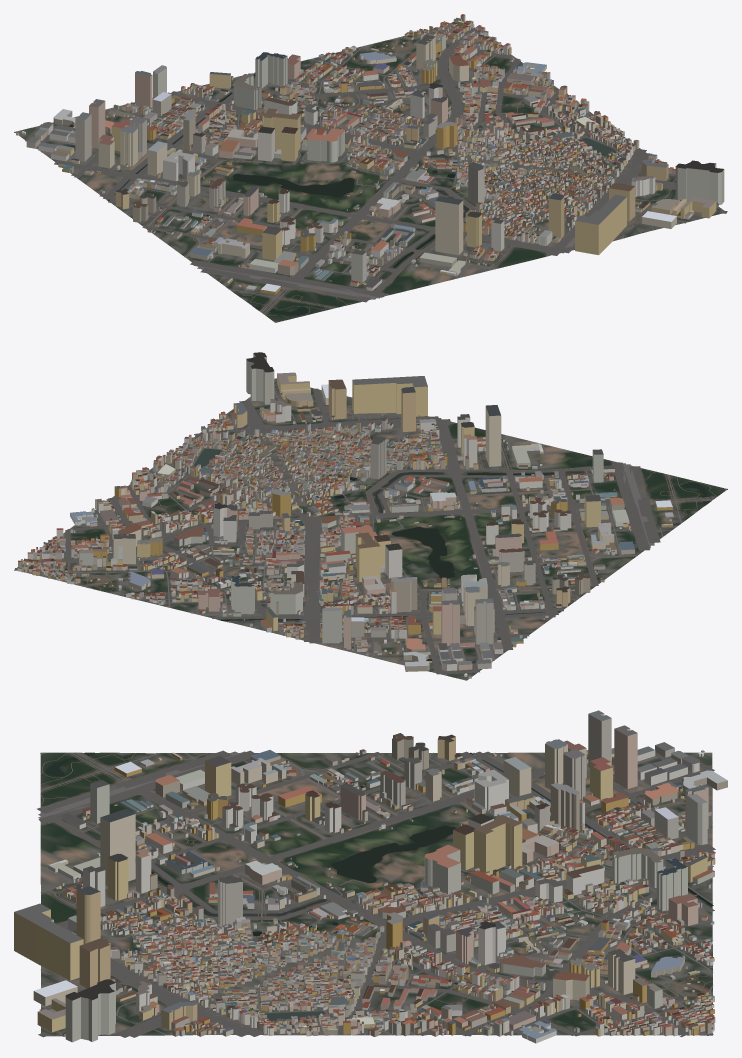
The picture shows the model from 3 angles, top to bottom: view 1: azimuth 30°, elevation 25°; view 2: azimuth 150°, elevation 25°; view 3: azimuth 270°, elevation 25°; orthographic projection. The views are drawn at different scales.
Visible parts, largest first — view 1: buildings, ground, roads, water; view 2: buildings, ground, roads, water; view 3: buildings, ground, roads, water.
Part boxes in pixels (x1,y1,x2,y2): buildings: (16, 14, 724, 294); ground: (14, 27, 726, 322); roads: (25, 27, 727, 322); water: (108, 66, 616, 314); buildings: (17, 352, 673, 678); ground: (14, 381, 727, 680); roads: (15, 378, 726, 674); water: (157, 448, 710, 620); buildings: (14, 710, 727, 1043); ground: (40, 752, 712, 1036); roads: (37, 750, 715, 1037); water: (45, 752, 713, 1021).
Size of the model in its own units: 1459 by 156 by 1490.
